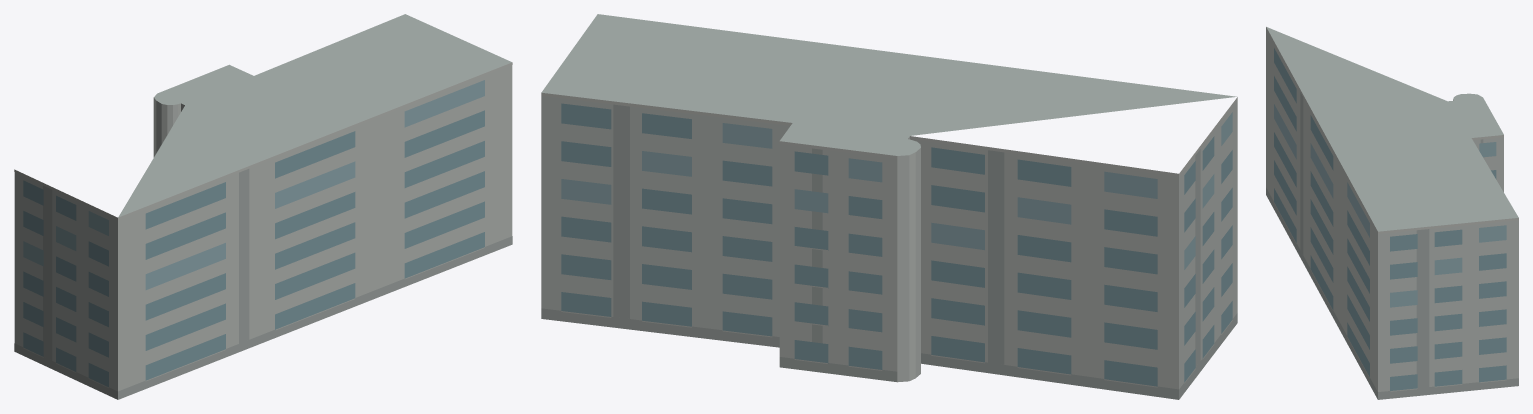
The model's file is survey-upis-33047427.glb.
3 renders of one model, left to right at view 1: azimuth 30°, elevation 25°; view 2: azimuth 150°, elevation 25°; view 3: azimuth 270°, elevation 25°, orthographic. The views are drawn at different scales.
Parts seen in each view (by area): view 1: survey-upis-33047427.tmp; view 2: survey-upis-33047427.tmp; view 3: survey-upis-33047427.tmp.
Boxes of the visible parts, <box> form: survey-upis-33047427.tmp: <box>14,14,512,399</box>; survey-upis-33047427.tmp: <box>541,14,1237,399</box>; survey-upis-33047427.tmp: <box>1266,27,1518,399</box>.
Bounding box in the file's own units: 47.59 × 17.15 × 23.36.
